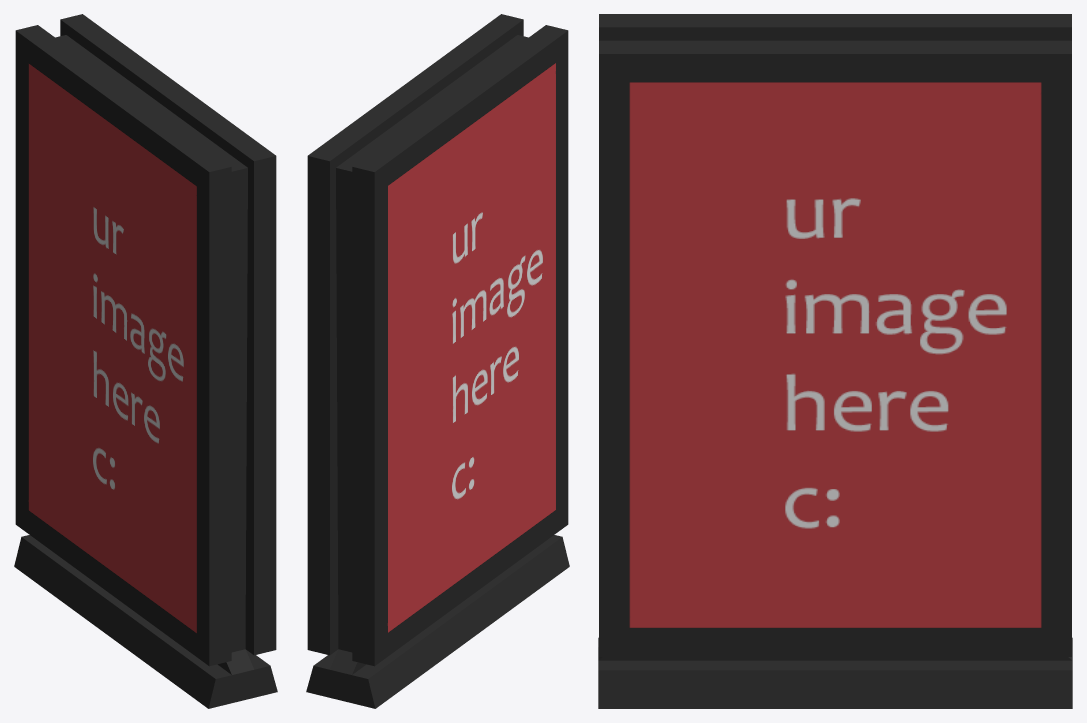
File: Directory.fbx
3 renders of one model, left to right at view 1: azimuth 30°, elevation 25°; view 2: azimuth 150°, elevation 25°; view 3: azimuth 270°, elevation 25°, orthographic. The views are drawn at different scales.
Parts seen in each view (by area): view 1: Screen; view 2: Screen; view 3: Screen.
Part boxes in pixels (bbox=[...]): Screen: bbox=[14, 14, 277, 708]; Screen: bbox=[306, 14, 569, 708]; Screen: bbox=[598, 14, 1072, 708].
Size of the model in its own units: 0.5167 by 3.82 by 2.51.
